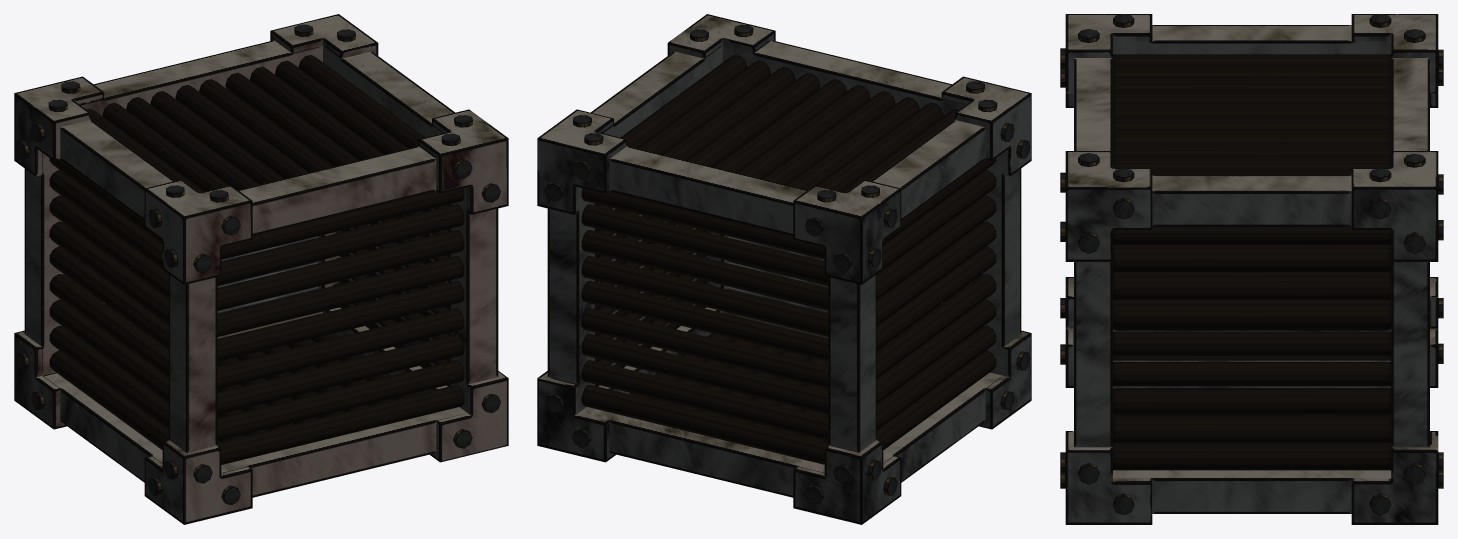
File: small_box.dae
3 renders of one model, left to right at view 1: azimuth 30°, elevation 25°; view 2: azimuth 150°, elevation 25°; view 3: azimuth 270°, elevation 25°, orthographic. The views are drawn at different scales.
Parts seen in each view (by area): view 1: Inside Structure, Outside Structure; view 2: Inside Structure, Outside Structure; view 3: Inside Structure, Outside Structure.
Part boxes in pixels (bbox=[...]): Inside Structure: bbox=[15, 24, 500, 505]; Outside Structure: bbox=[14, 14, 508, 524]; Inside Structure: bbox=[545, 24, 1030, 504]; Outside Structure: bbox=[537, 14, 1031, 524]; Inside Structure: bbox=[1060, 14, 1443, 515]; Outside Structure: bbox=[1065, 14, 1438, 524].
Bounding box in the file's own units: 6.65 × 6.04 × 6.03.
